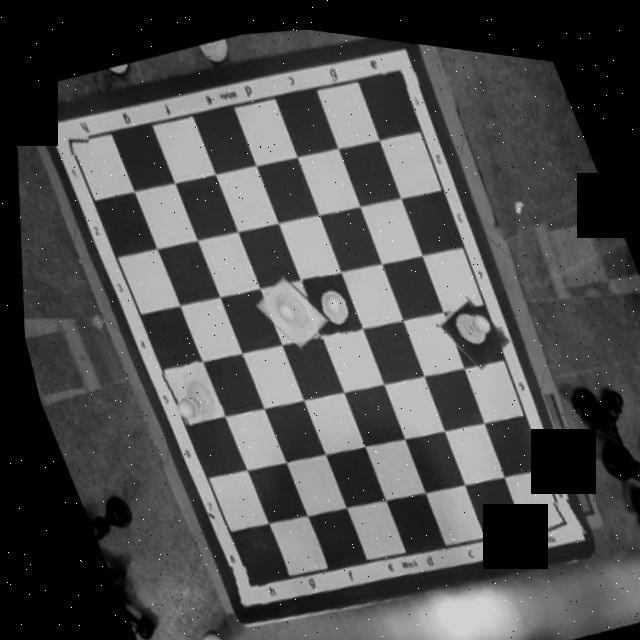chess-table-corners: (526, 482, 580, 534), (212, 553, 264, 606), (376, 44, 422, 84), (50, 119, 90, 159)
